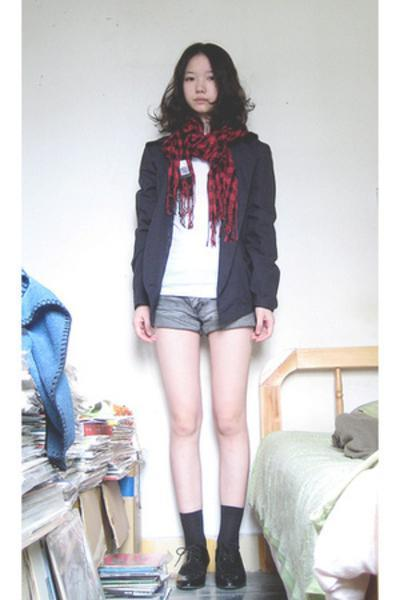jacket: (132, 123, 279, 329)
shirt: (160, 159, 218, 297)
shoe: (177, 559, 245, 590)
shorts: (141, 286, 258, 347)
